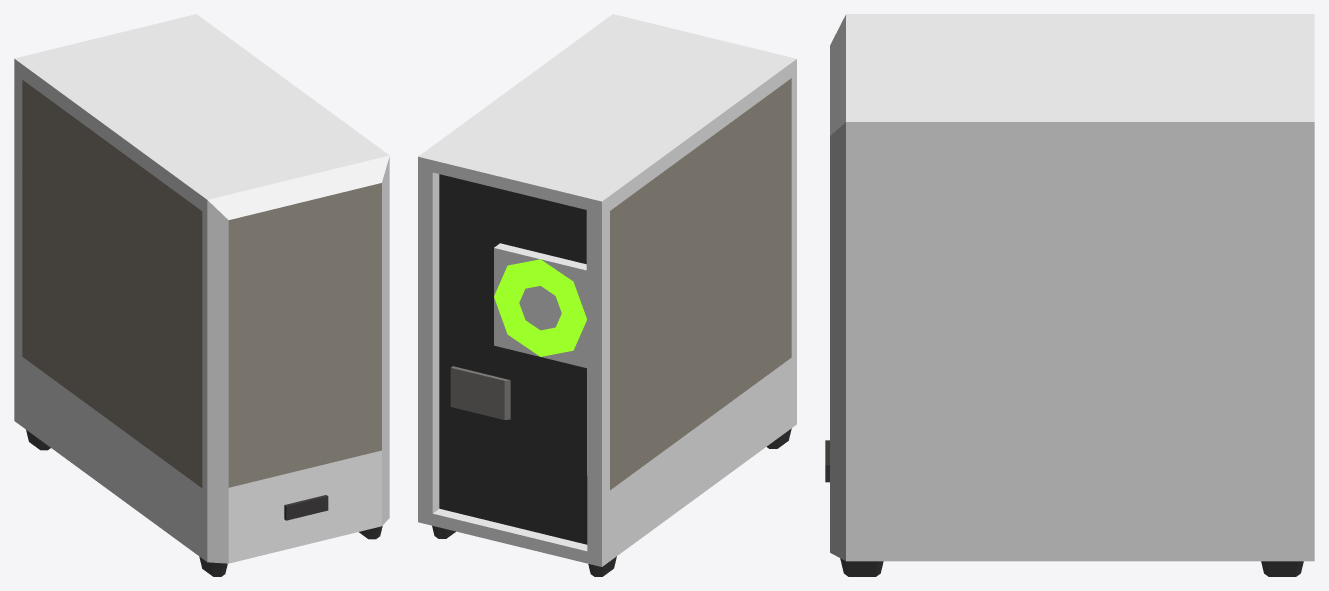
Rendered from electronics_pc-desktop-gaming.fbx.
3 views of the same model, side by side, from view 1: azimuth 30°, elevation 25°; view 2: azimuth 150°, elevation 25°; view 3: azimuth 270°, elevation 25° (orthographic). The views are drawn at different scales.
Parts seen in each view (by area): view 1: electronics_pc_desktop_gaming; view 2: electronics_pc_desktop_gaming; view 3: electronics_pc_desktop_gaming.
Boxes of the visible parts, x1,y1,x2,y2 form: electronics_pc_desktop_gaming: (14, 14, 389, 576); electronics_pc_desktop_gaming: (418, 14, 796, 576); electronics_pc_desktop_gaming: (825, 14, 1314, 576).
Size of the model in its own units: 101 by 200 by 193.
